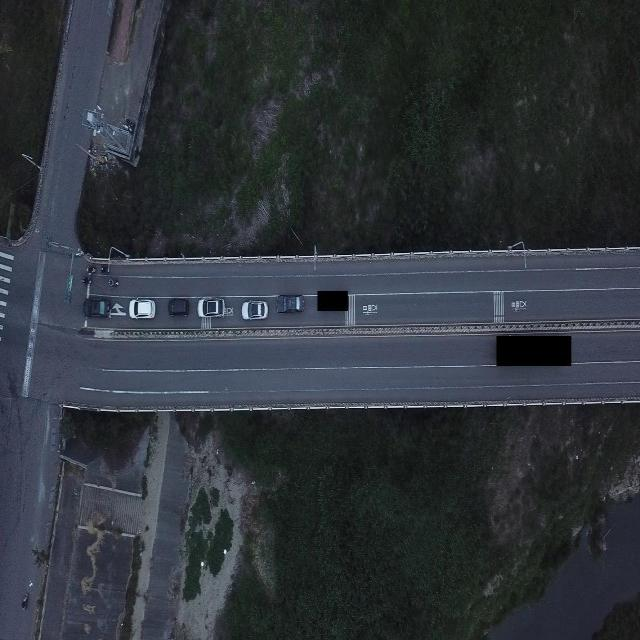bike: (80, 275, 92, 287), (23, 591, 30, 609), (100, 264, 110, 274), (108, 278, 119, 287), (86, 265, 96, 273)
car: (82, 296, 114, 320), (242, 298, 268, 322), (129, 296, 155, 320), (198, 296, 224, 317), (278, 294, 305, 314), (168, 297, 188, 317)
